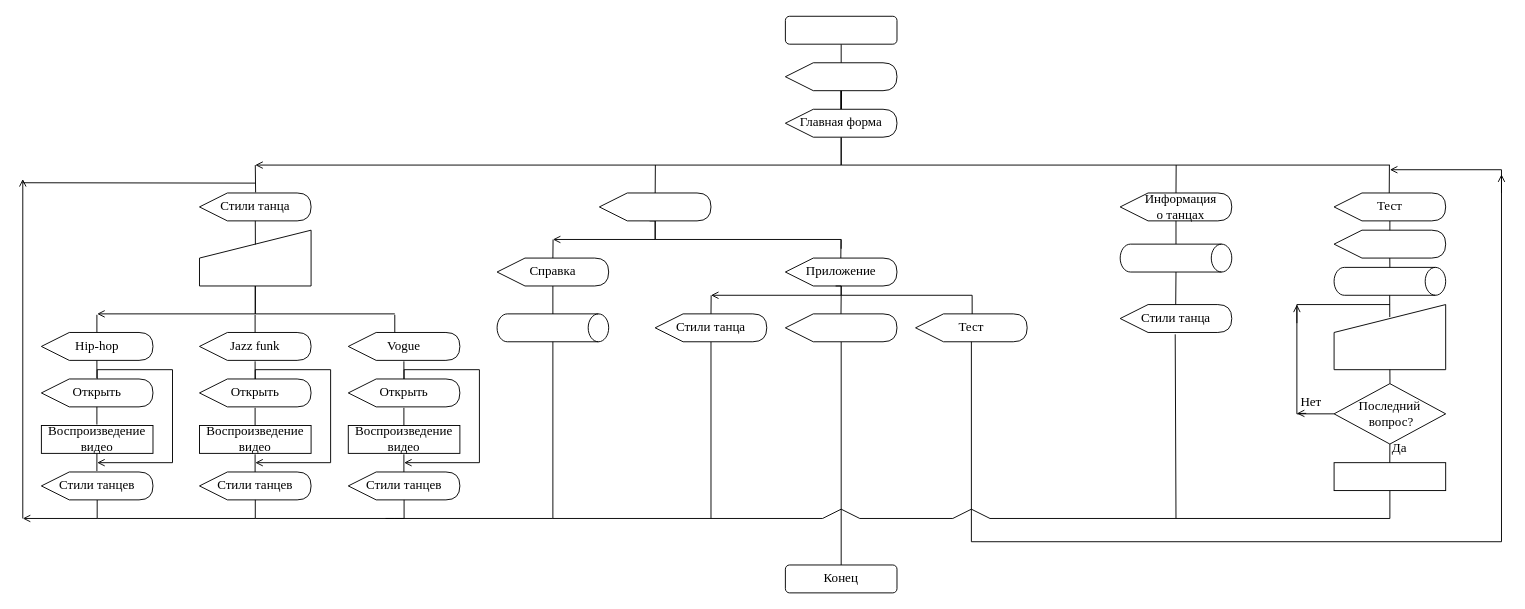
This 1525x609 diagram has some shape labels left out. Each missing label, with the box of its shape:
Help10.chm: (496, 313, 609, 342)
Test.chm: (1333, 266, 1446, 295)
Выбор вариантов ответа: (1333, 304, 1446, 370)
Выбор стиля: (199, 229, 311, 286)
Закрыть: (784, 313, 897, 342)
Заставка: (784, 62, 897, 91)
Информация о танцах.chm: (1119, 243, 1232, 272)
Меню: (598, 192, 711, 221)
Начало: (784, 15, 897, 44)
Начать тест: (1333, 229, 1446, 258)
Сообщение о подходящем стиле: (1333, 462, 1446, 491)
